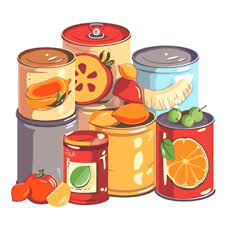can: (14, 18, 217, 202)
